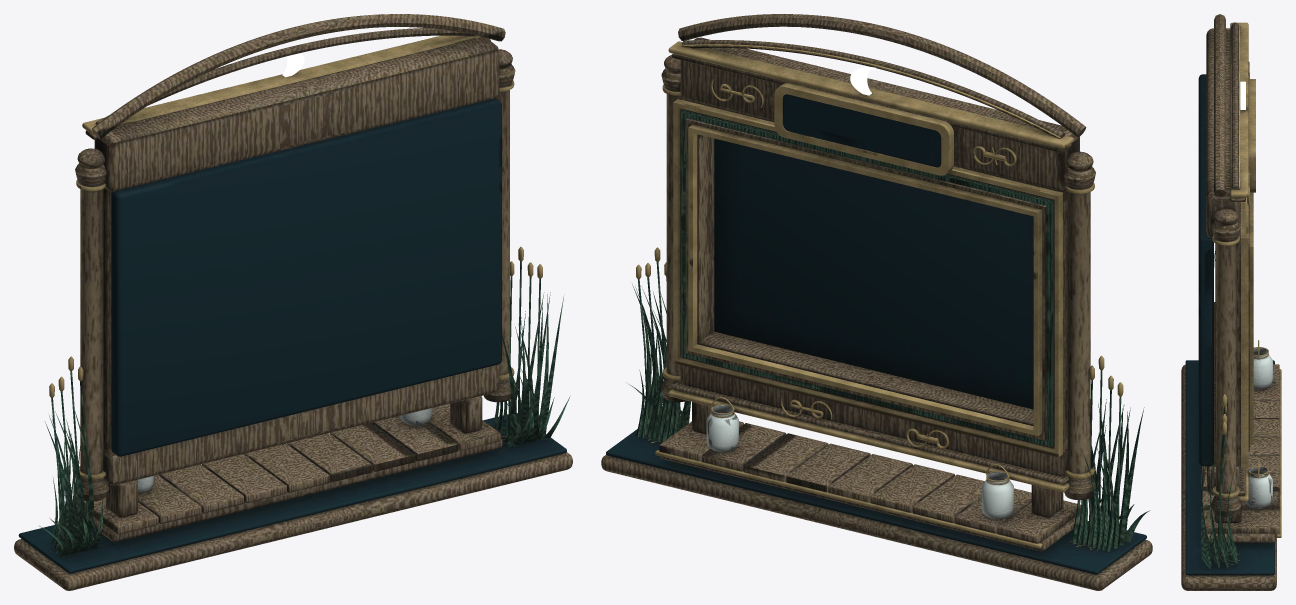
The picture shows the model from 3 angles, left to right: view 1: azimuth 30°, elevation 25°; view 2: azimuth 150°, elevation 25°; view 3: azimuth 270°, elevation 25°; orthographic projection. The views are drawn at different scales.
Parts seen in each view (by area): view 1: Midnight_water_and_inset, Moonwashed_oak, Meadow_leaves, Antique_champagne; view 2: Moonwashed_oak, Midnight_water_and_inset, Antique_champagne, Meadow_leaves, Clear_moonlit_glass; view 3: Moonwashed_oak, Midnight_water_and_inset, Antique_champagne, Meadow_leaves, Clear_moonlit_glass, Crescent_glow.
Boxes of the visible parts, x1,y1,x2,y2 form: Midnight_water_and_inset: (18, 98, 566, 573); Moonwashed_oak: (14, 14, 572, 590); Meadow_leaves: (39, 261, 570, 557); Antique_champagne: (49, 35, 542, 545); Moonwashed_oak: (601, 14, 1152, 590); Midnight_water_and_inset: (606, 94, 1146, 574); Antique_champagne: (636, 41, 1123, 550); Meadow_leaves: (629, 110, 1150, 551); Clear_moonlit_glass: (706, 405, 1013, 519); Moonwashed_oak: (1181, 14, 1279, 590); Midnight_water_and_inset: (1185, 74, 1274, 575); Antique_champagne: (1212, 22, 1281, 564); Meadow_leaves: (1201, 251, 1237, 568); Clear_moonlit_glass: (1245, 348, 1272, 508); Crescent_glow: (1240, 81, 1245, 109).
Size of the model in its own units: 10.59 by 9.3 by 1.97.
Materials: 6 (5 with a texture image).
